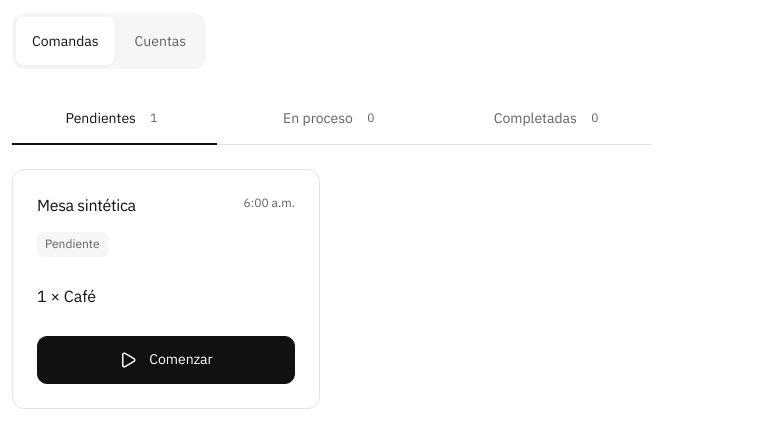
a kitchen batch advances pending to in progress and then completed with current revisions
This screenshot has width=776, height=426.
Click the button "Comenzar". click: (166, 360)
box: [37,336,295,384]
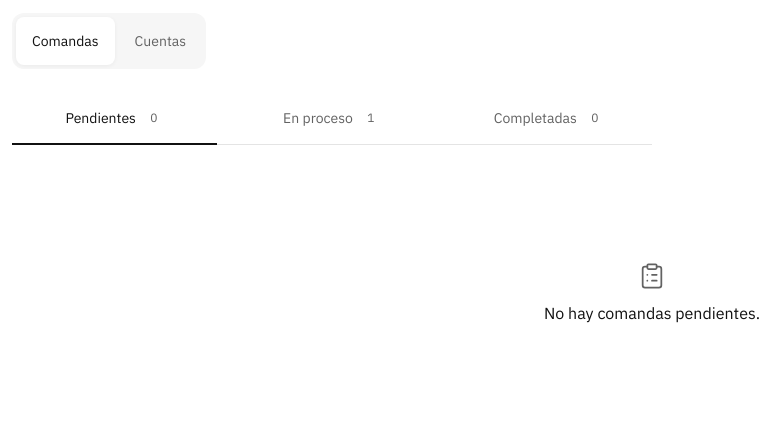
Click the button "En proceso 1". click: (332, 119)
box: [229,93,435,145]
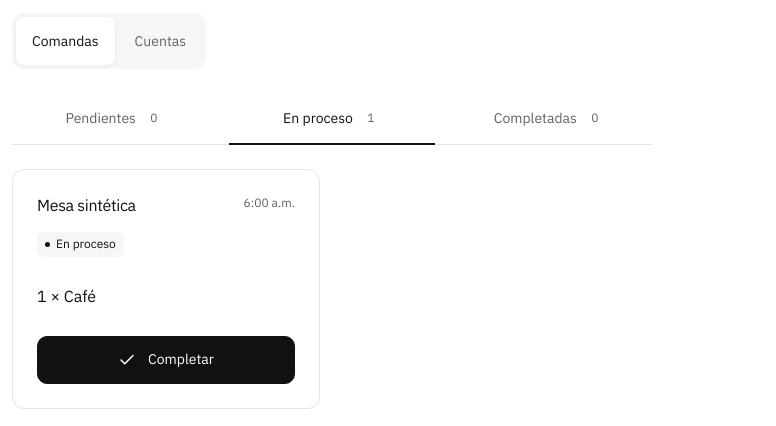
Click the button "Completar". click: (166, 360)
box: [37,336,295,384]
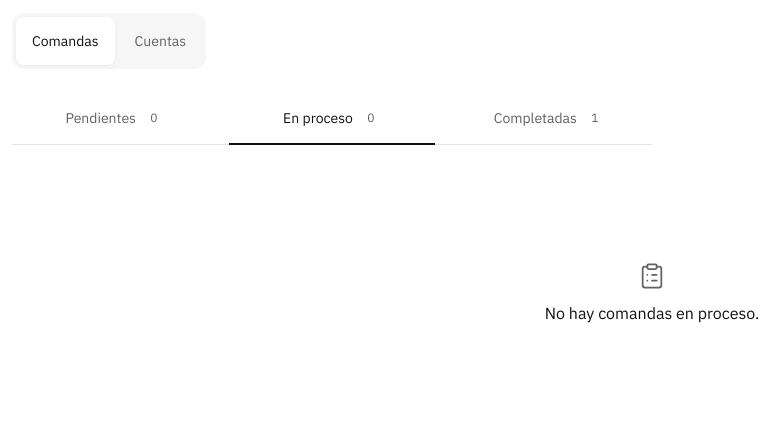
Click the button "Completadas 1". click: (549, 119)
box: [447,93,652,145]
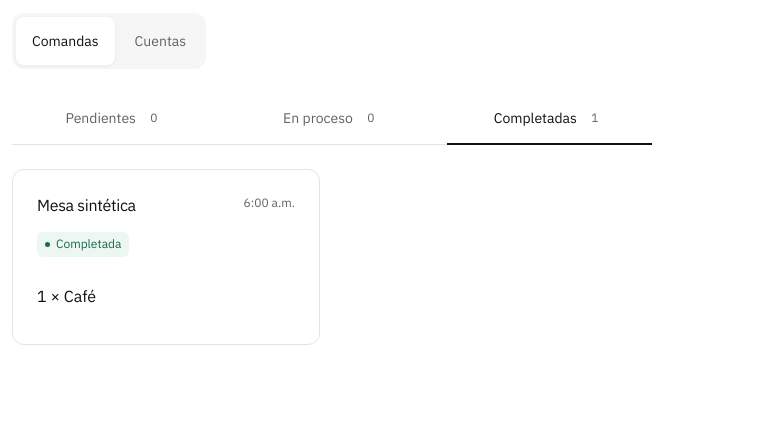
Now the text "Completada" is shown, box [37,232,130,257]
